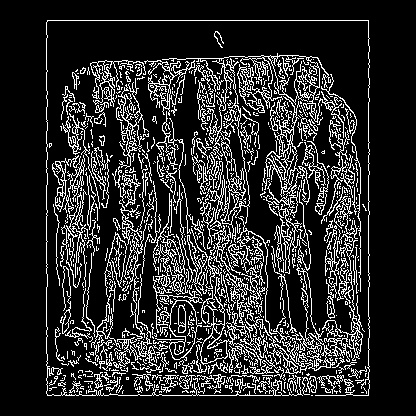buddha-sitting: (118, 182, 210, 245)
